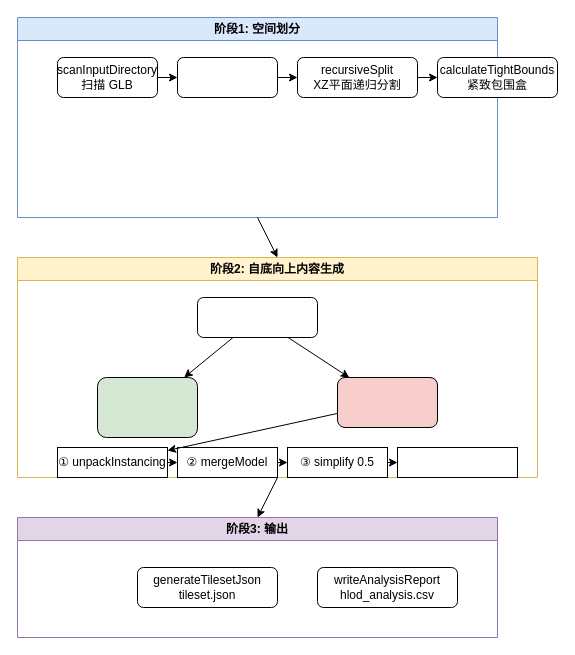
Image size: 575x655. Some labels were removed from this diagram. The box of each missing label's shape, as (x1, y1, x2, y2) in pixels:
buildQuadtree 构建四叉树: (176, 56, 278, 98)
④ SemanticMaterialGeometricDetector (Hausdorff): (396, 446, 518, 478)
叶节点 generateLeafTile 直接合并: (96, 376, 198, 438)
按 level 降序排序: (196, 296, 318, 338)
父节点 processParentTile: (336, 376, 438, 428)
